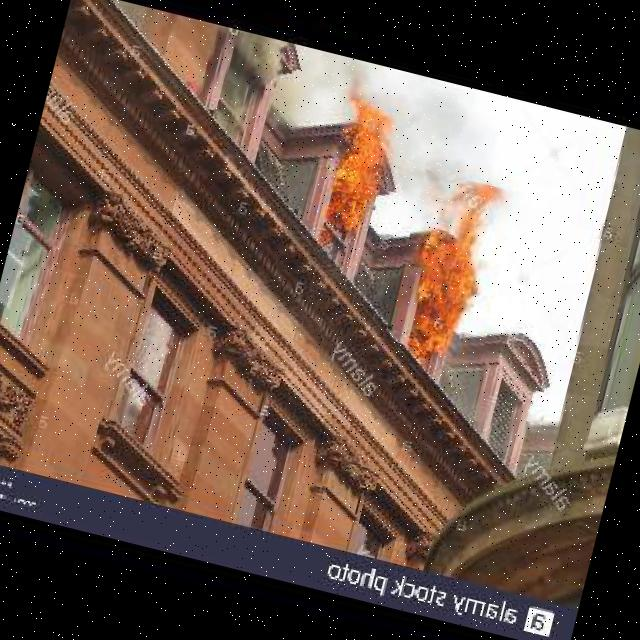fire: (384, 169, 522, 363)
